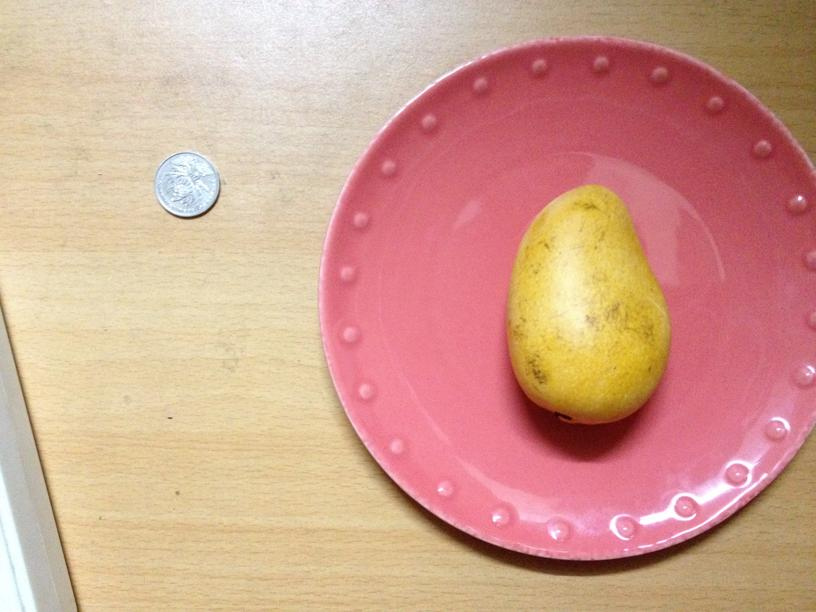coin: (150, 151, 222, 218)
mango: (508, 181, 670, 423)
